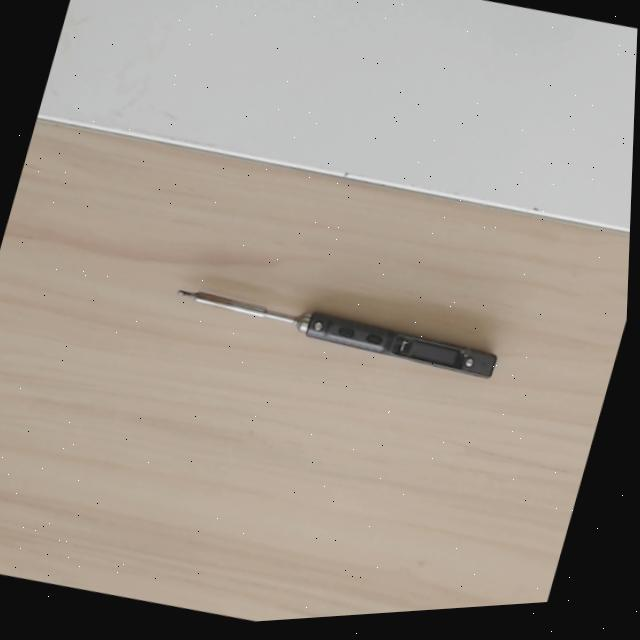Soldering-Iron: (173, 276, 497, 380)
